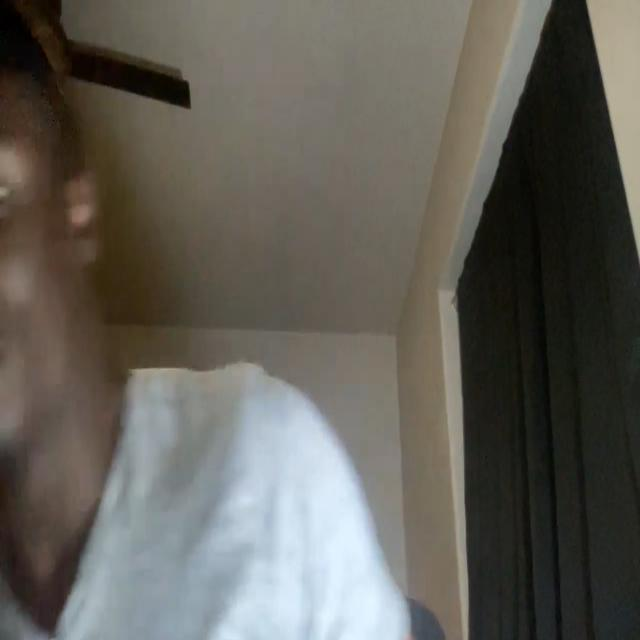face: (0, 10, 100, 462)
